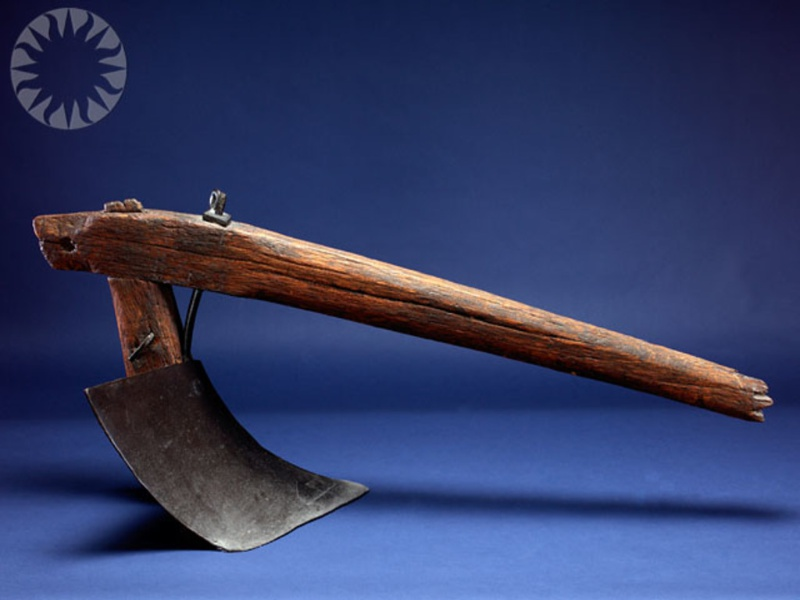axe: (23, 180, 792, 559)
